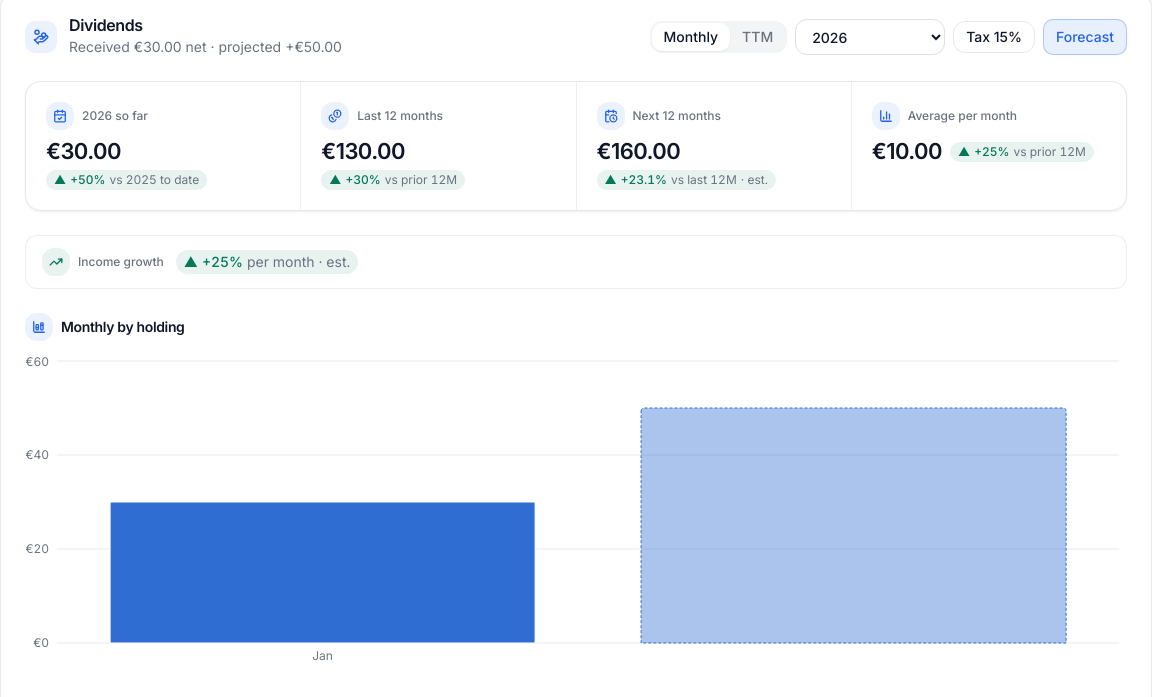
Test case: Dividend chart controls › requests 24 months and allows an annual row to restore a calendar year without changing mode
This screenshot has width=1152, height=697.
Expected: the text "Received €30.00 net · projected +€50.00" is shown, [69, 38, 342, 55]
Click the button "TTM": [758, 37] box [730, 23, 785, 51]
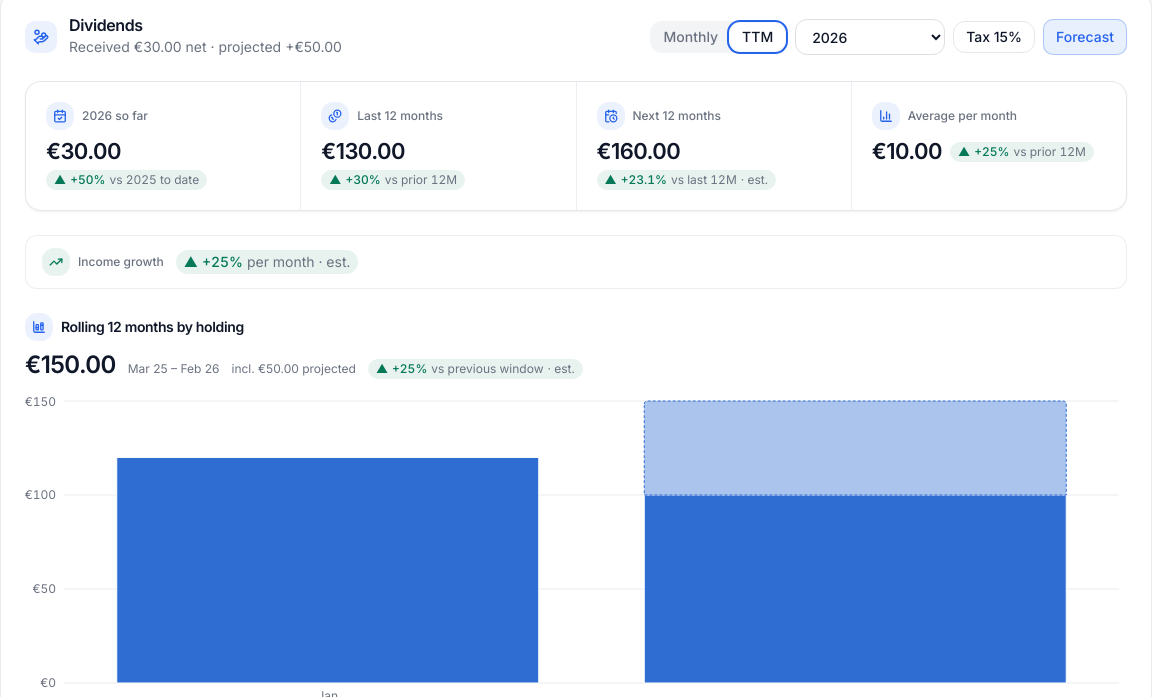
Select "Last 24 months" in the dropdown named "Dividend period": [870, 37] box [795, 19, 945, 55]
(page scrolled)
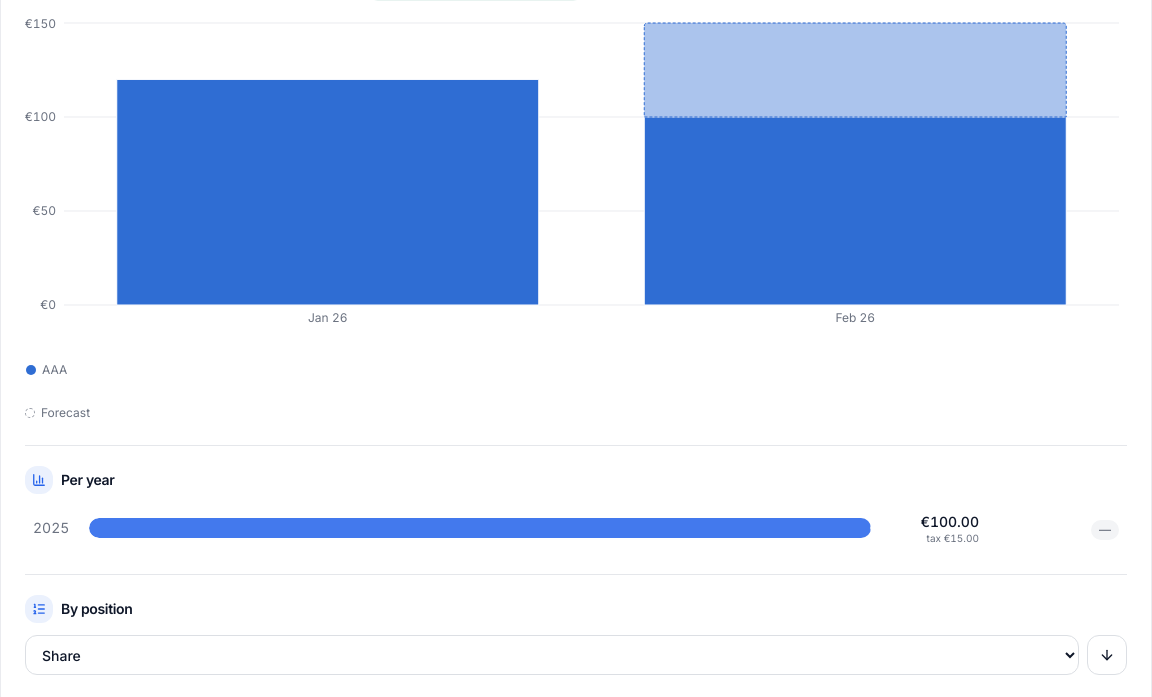
Click the button "2025 €100.00 tax €15.00 —": [576, 528] box [25, 506, 1127, 550]
(page scrolled)
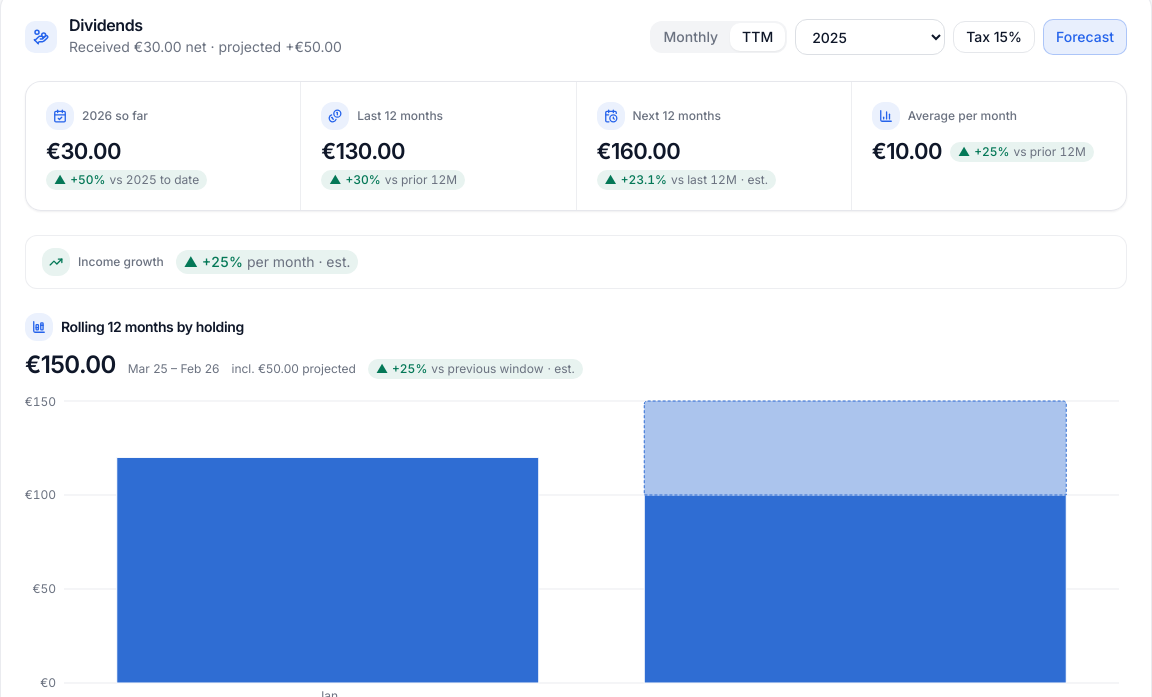
Expected: the text "Received €30.00 net · projected +€50.00" is shown, [69, 38, 342, 55]
